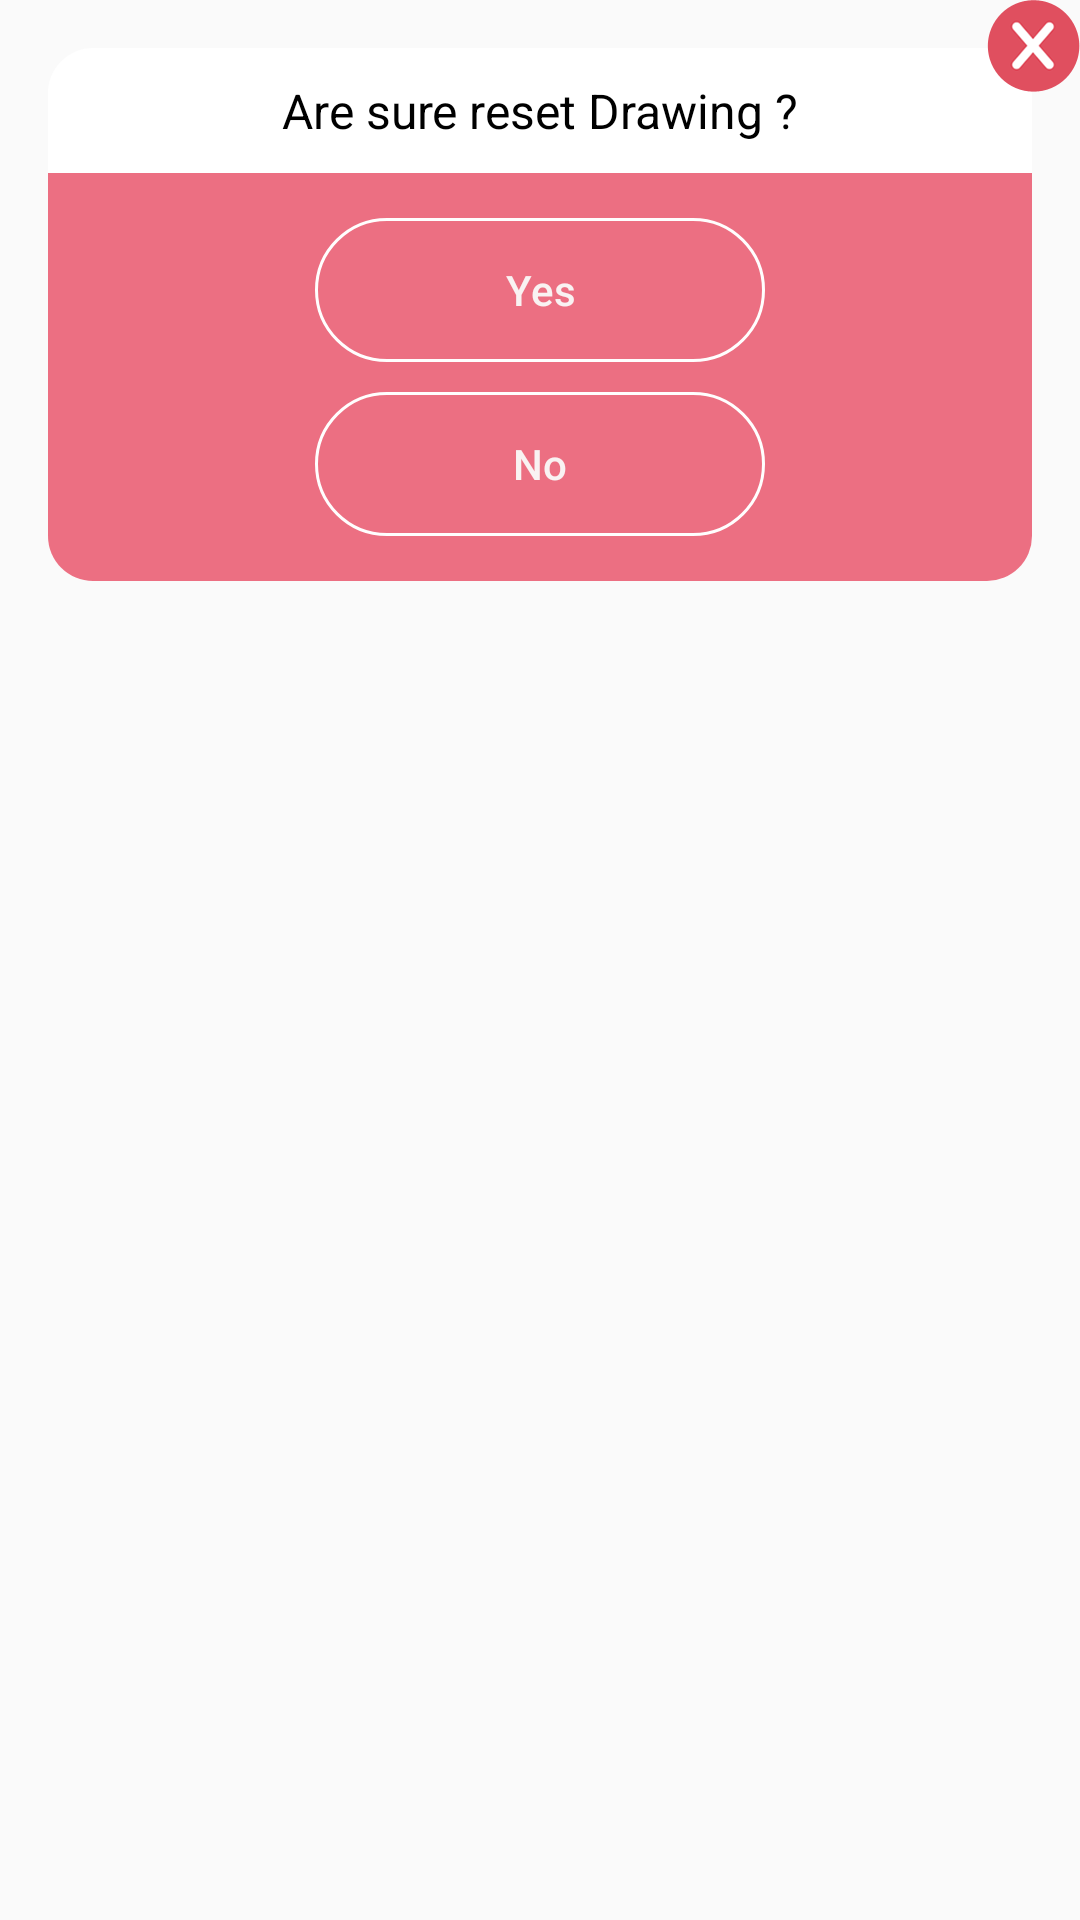

Icons on this 1080*1920 Android screen, each with the point to tap as (x,y):
popup cancel: (1033,46)
